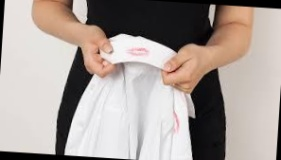lipstick: (167, 109, 184, 137), (125, 45, 155, 60)
